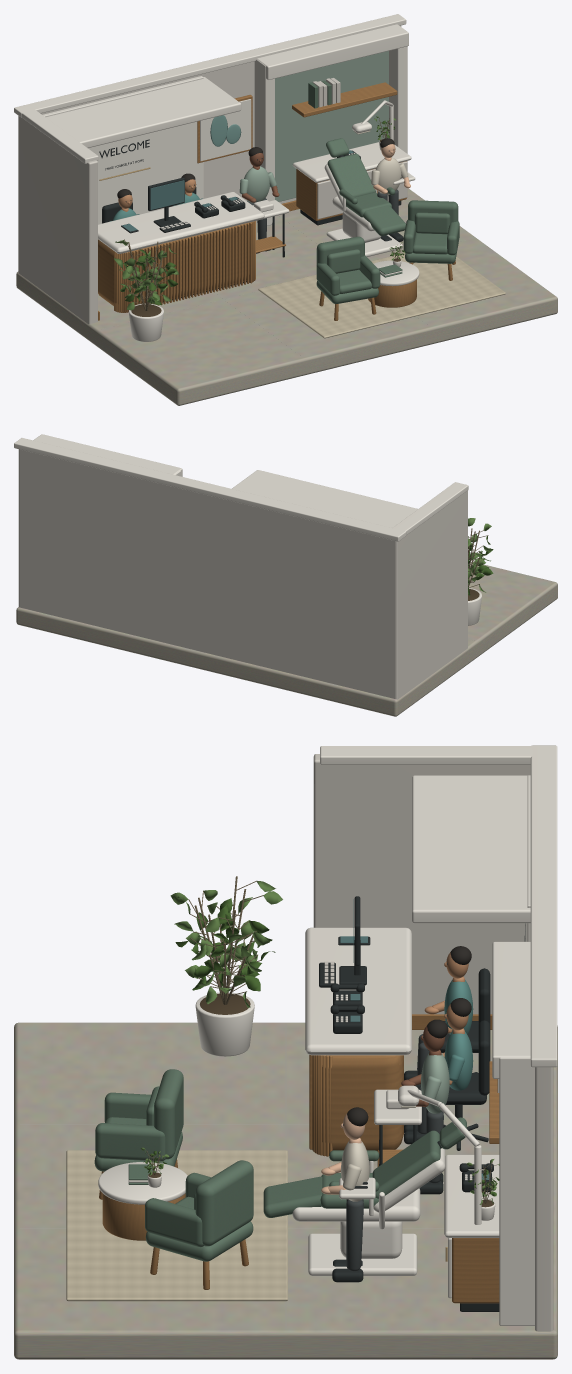
File: practice-module.glb
3 views of the same model, one above another, from view 1: azimuth 30°, elevation 25°; view 2: azimuth 150°, elevation 25°; view 3: azimuth 270°, elevation 25° (orthographic). The views are drawn at different scales.
Parts seen in each view (by area): view 1: Honed limestone foundation, Wall_Back__Porcelain, Left return, Workspace backing, Reception__Oak, Bound linen rug, Canopy, Stone countertop, Rear plaster, Seating_A__Sage, Seating_B__Sage, Dental assembly • Sage • woven upholstery (+19 smaller); view 2: Rear plaster, Honed limestone foundation, Left return, Wall_Back__Porcelain, Canopy, Left coping, Plant_Tall__Leaves, Ceramic planter; view 3: Honed limestone foundation, Wall_Back__Porcelain, Left return, Bound linen rug, Canopy, Stone countertop, Dental assembly • Porcelain • soft white, Seating_B__Sage, Reception__Oak, Seating_A__Sage, Dental assembly • Sage • woven upholstery, Rear plaster (+19 smaller).
Part boxes in pixels (x1,y1,x2,y2): Honed limestone foundation: (16, 188, 557, 405); Wall_Back__Porcelain: (14, 14, 408, 225); Left return: (18, 116, 97, 324); Workspace backing: (275, 51, 388, 201); Reception__Oak: (98, 221, 255, 312); Bound linen rug: (258, 253, 505, 338); Canopy: (46, 77, 241, 147); Stone countertop: (98, 192, 264, 253); Rear plaster: (40, 25, 401, 203); Seating_A__Sage: (316, 236, 380, 303); Seating_B__Sage: (403, 200, 459, 263); Dental assembly • Sage • woven upholstery: (326, 138, 405, 235); Rear plaster: (18, 449, 396, 698); Honed limestone foundation: (16, 561, 557, 716); Left return: (396, 490, 467, 699); Wall_Back__Porcelain: (14, 434, 406, 541); Canopy: (232, 470, 417, 527); Left coping: (392, 482, 468, 534); Plant_Tall__Leaves: (468, 518, 493, 592); Ceramic planter: (468, 588, 481, 625); Honed limestone foundation: (14, 1022, 557, 1359); Wall_Back__Porcelain: (492, 745, 557, 1325); Left return: (313, 754, 530, 1014); Bound linen rug: (66, 1150, 287, 1301); Canopy: (412, 775, 530, 923); Stone countertop: (305, 927, 411, 1055); Dental assembly • Porcelain • soft white: (292, 1085, 481, 1275); Seating_B__Sage: (145, 1160, 253, 1261); Reception__Oak: (309, 1055, 403, 1156); Seating_A__Sage: (94, 1069, 183, 1171); Dental assembly • Sage • woven upholstery: (263, 1117, 466, 1217); Rear plaster: (535, 1067, 553, 1331).
Size of the model in its own units: 6.97 by 3.14 by 5.1.
27 materials, 4 textured.
